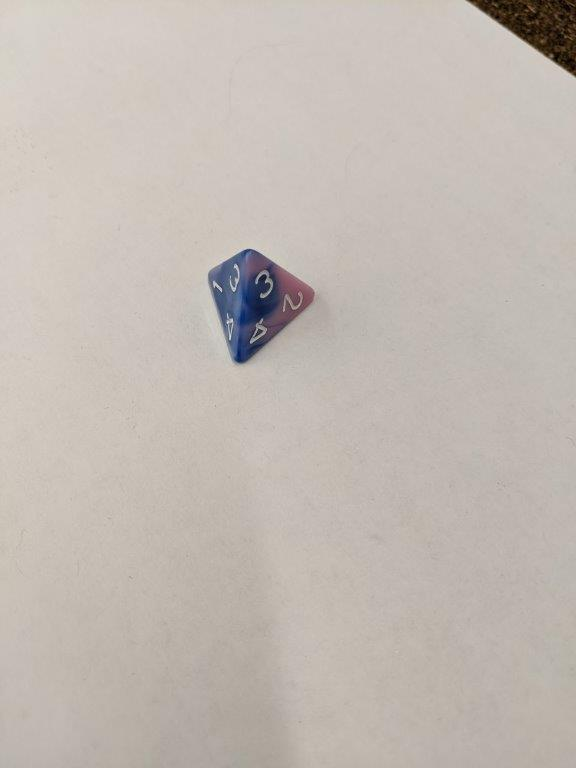d4-3: (204, 247, 320, 366)
